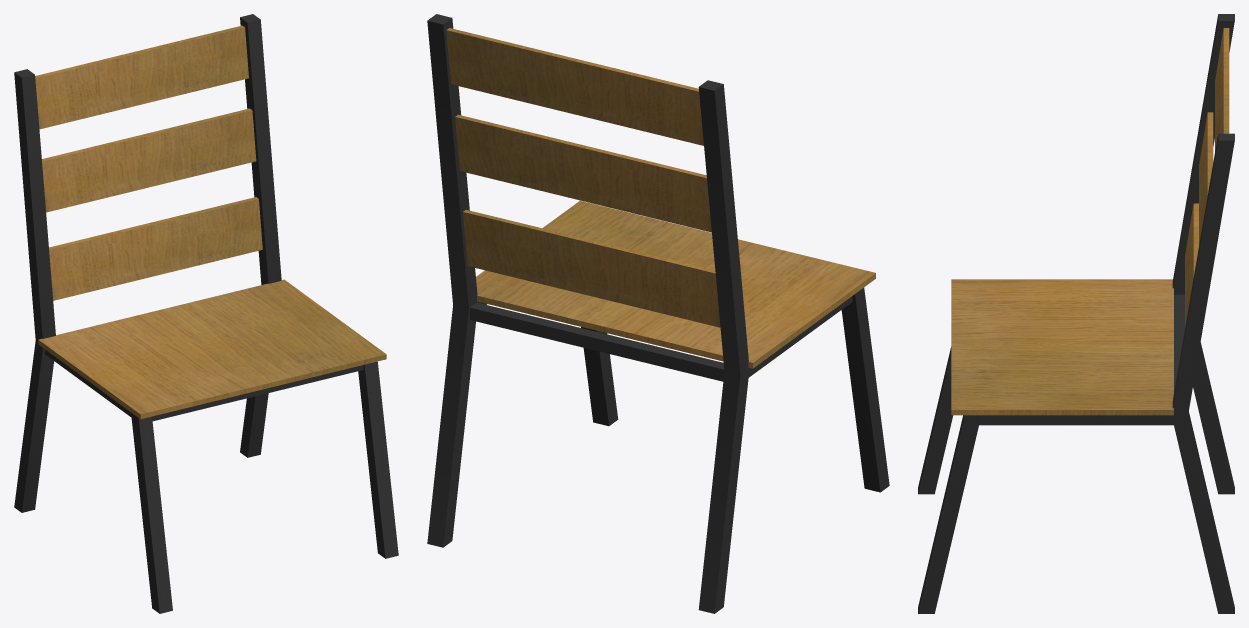
Rendered from chair6.FBX.
The picture shows the model from 3 angles, left to right: view 1: azimuth 30°, elevation 25°; view 2: azimuth 150°, elevation 25°; view 3: azimuth 270°, elevation 25°; orthographic projection. The views are drawn at different scales.
Visible parts, largest first — view 1: chair6; view 2: chair6; view 3: chair6.
Part boxes in pixels (<box>): chair6: <box>14,14,398,613</box>; chair6: <box>427,14,889,613</box>; chair6: <box>918,14,1234,613</box>.
Bounding box in the file's own units: 5.35 × 9.04 × 5.48.
